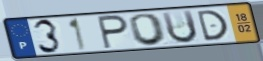1: (68, 15, 88, 52)
3: (31, 18, 64, 55)
D: (195, 9, 230, 43)
O: (128, 12, 169, 47)
P: (96, 14, 131, 50)
U: (160, 8, 200, 45)
